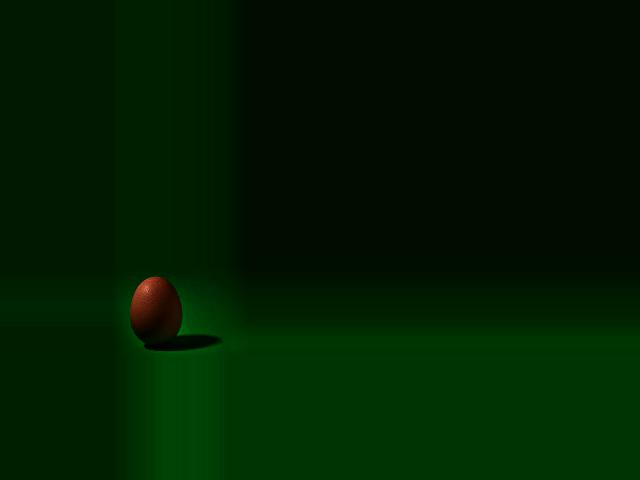egg: (130, 277, 182, 346)
